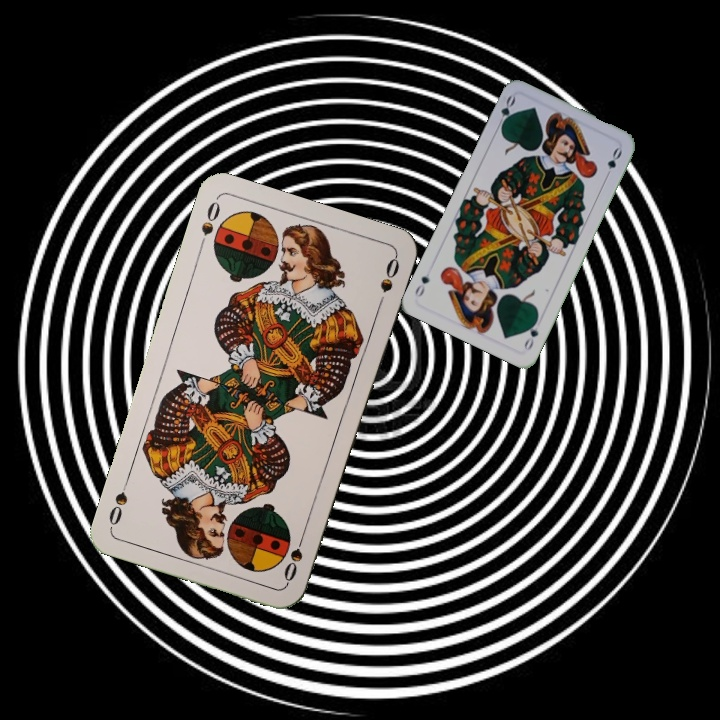GO: (493, 92, 518, 132), (520, 314, 541, 353)
SO: (279, 528, 308, 586), (195, 197, 223, 253)
